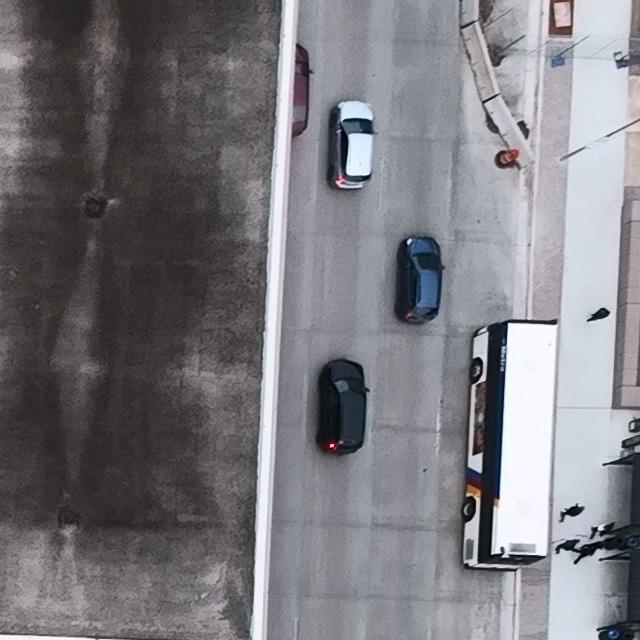car: (459, 319, 558, 572), (315, 358, 371, 456), (328, 99, 379, 191), (395, 236, 446, 326), (291, 45, 315, 137)
